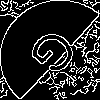G: (25, 25, 89, 85)
